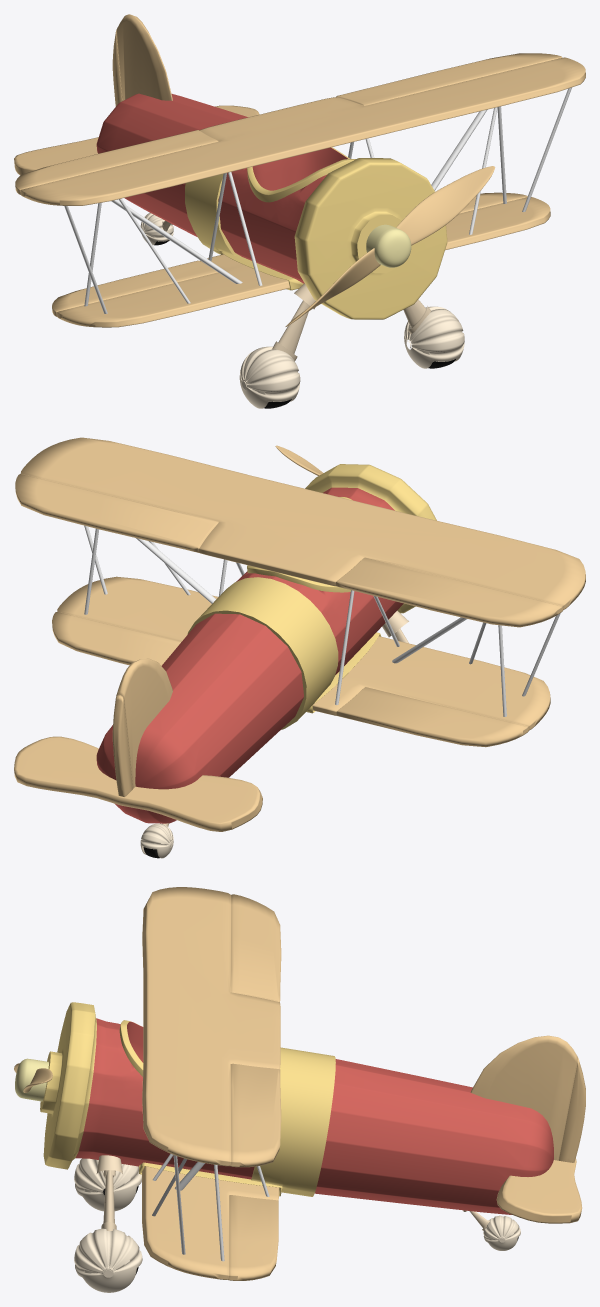
The model's file is airPlane.gltf.
3 views of the same model, one above another, from view 1: azimuth 30°, elevation 25°; view 2: azimuth 150°, elevation 25°; view 3: azimuth 270°, elevation 25° (orthographic).
Parts seen in each view (by area): view 1: Plane_Sphere.001; view 2: Plane_Sphere.001; view 3: Plane_Sphere.001.
Part boxes in pixels (x1,y1,x2,y2): Plane_Sphere.001: (14,14,585,408); Plane_Sphere.001: (14,437,585,858); Plane_Sphere.001: (14,887,585,1292).
Bounding box in the file's own units: 0.4563 × 0.1885 × 0.4103.
